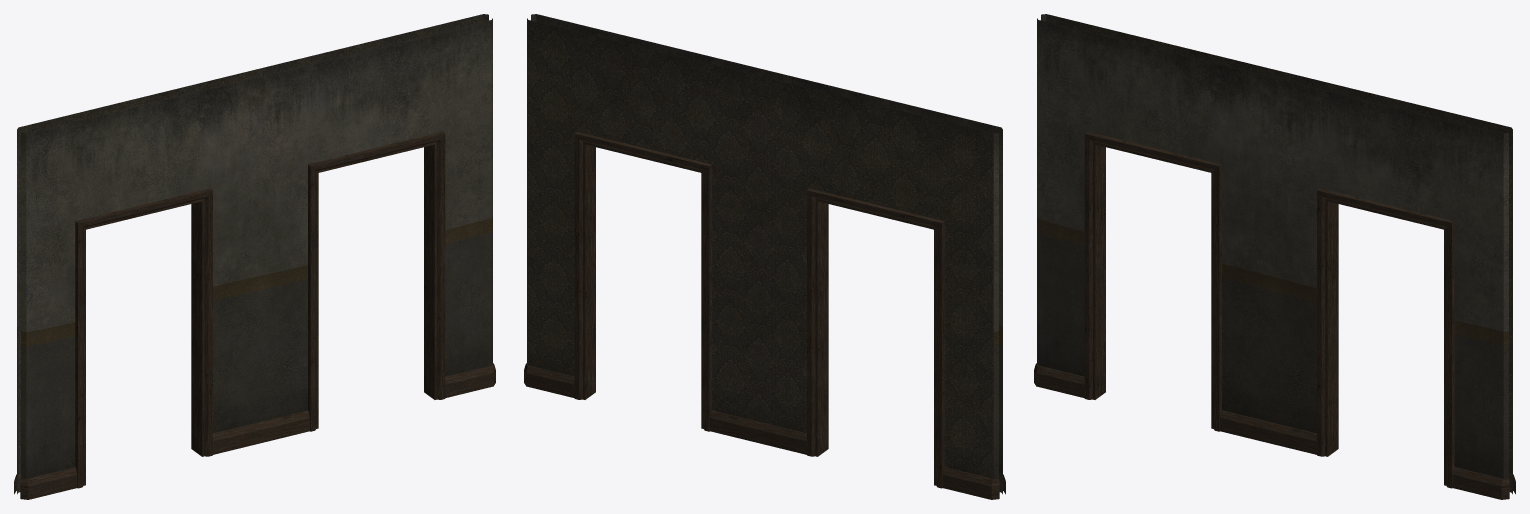
The model's file is double_single_doorway_1.obj.
The picture shows the model from 3 angles, left to right: view 1: azimuth 30°, elevation 25°; view 2: azimuth 150°, elevation 25°; view 3: azimuth 330°, elevation 25°; orthographic projection.
Visible parts, largest first — view 1: double_single_doorway_1; view 2: double_single_doorway_1; view 3: double_single_doorway_1.
Boxes of the visible parts, <box> form: double_single_doorway_1: <box>14,14,495,499</box>; double_single_doorway_1: <box>524,14,1005,499</box>; double_single_doorway_1: <box>1034,14,1515,499</box>.
Size of the model in its own units: 4.09 by 3 by 0.2.
